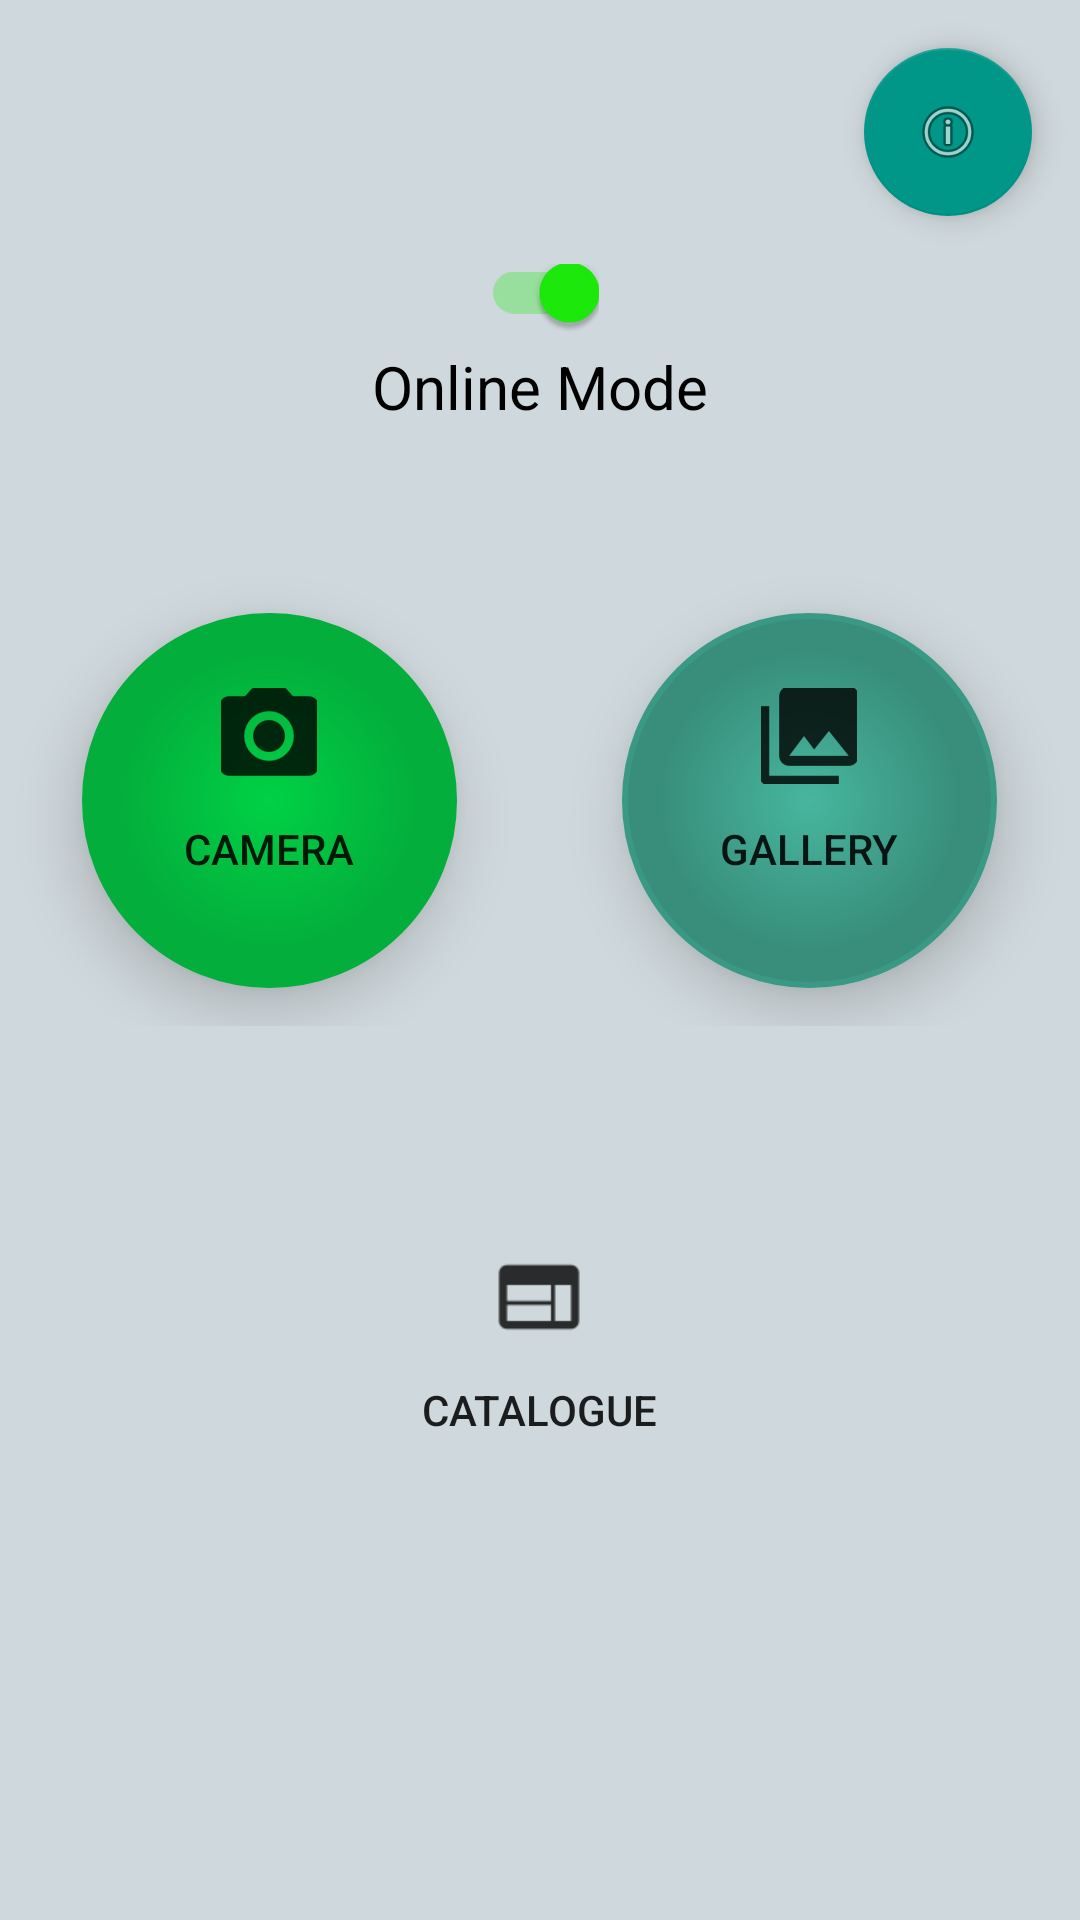

Icons on this 1080px x 1920px Android screen, each with the point to tap as [x,y]:
info details: [948,132]
